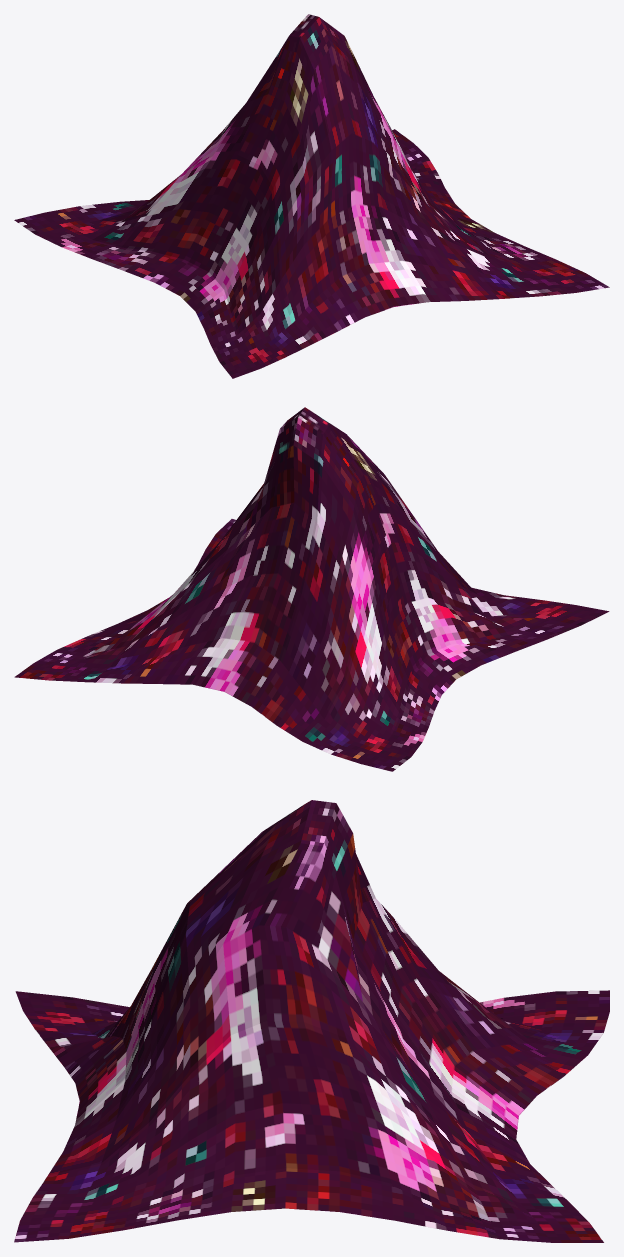
File: Trapo.fbx
The picture shows the model from 3 angles, top to bottom: view 1: azimuth 30°, elevation 25°; view 2: azimuth 150°, elevation 25°; view 3: azimuth 270°, elevation 25°; orthographic projection. The views are drawn at different scales.
Visible parts, largest first — view 1: Plane.001; view 2: Plane.001; view 3: Plane.001.
Boxes of the visible parts, x1,y1,x2,y2 form: Plane.001: (14,14,609,378); Plane.001: (14,407,609,771); Plane.001: (14,800,609,1242).
Size of the model in its own units: 200 by 121 by 200.
Materials: 1 (1 with a texture image).
